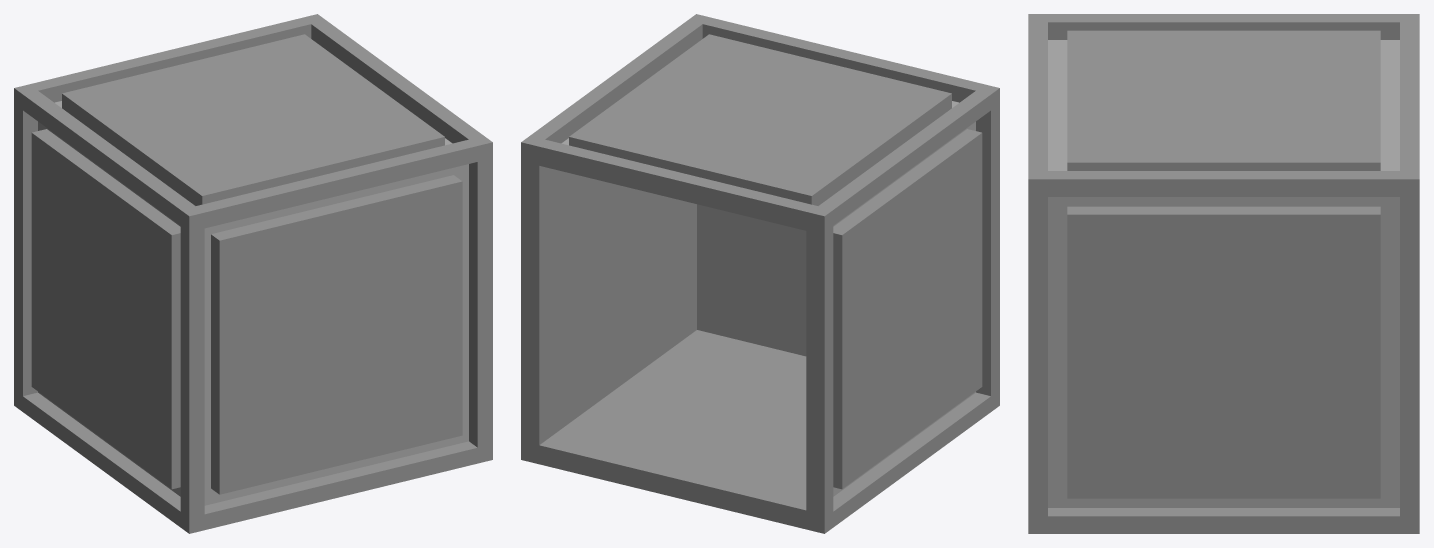
Rendered from stone_tile5.fbx.
3 views of the same model, side by side, from view 1: azimuth 30°, elevation 25°; view 2: azimuth 150°, elevation 25°; view 3: azimuth 270°, elevation 25° (orthographic). The views are drawn at different scales.
Visible parts, largest first — view 1: Mesh; view 2: Mesh; view 3: Mesh.
Part boxes in pixels (<box>): Mesh: <box>14,14,492,533</box>; Mesh: <box>521,14,999,533</box>; Mesh: <box>1028,14,1419,533</box>.
Size of the model in its own units: 1 by 1 by 1.
